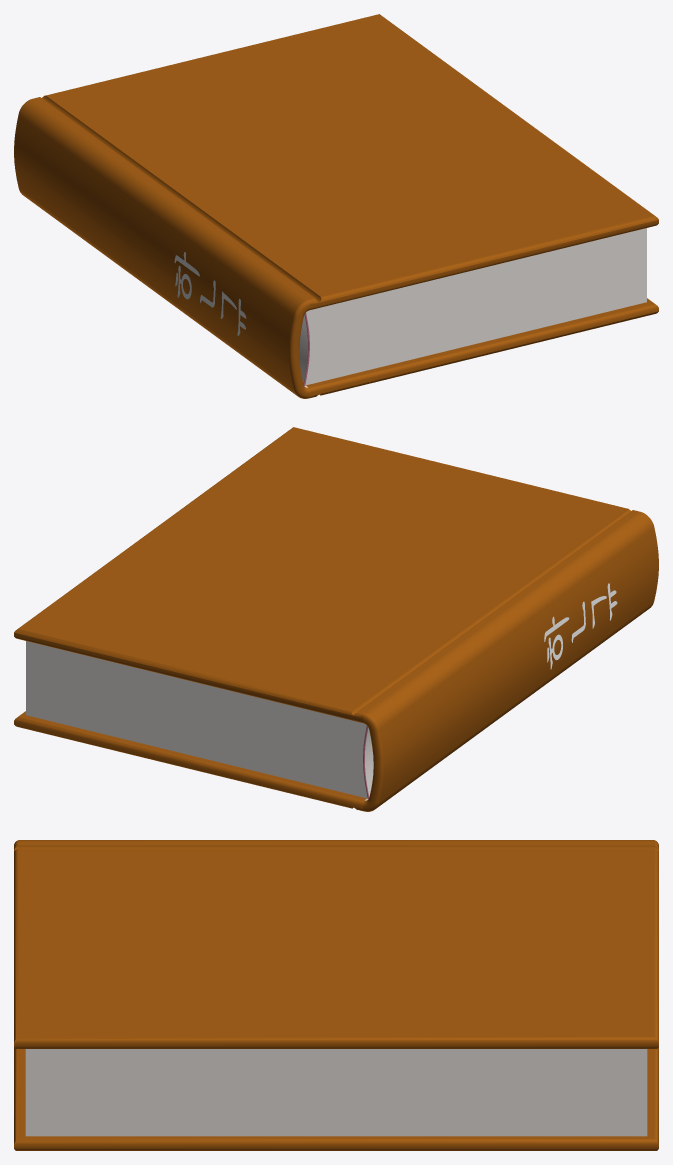
File: book5.glb
3 renders of one model, top to bottom at view 1: azimuth 30°, elevation 25°; view 2: azimuth 150°, elevation 25°; view 3: azimuth 270°, elevation 25°, orthographic. The views are drawn at different scales.
Visible parts, largest first — view 1: Geode, Text; view 2: Geode, Text; view 3: Geode.
Boxes of the visible parts, x1,y1,x2,y2 form: Geode: (14, 14, 658, 398); Text: (174, 252, 246, 335); Geode: (14, 427, 658, 811); Text: (544, 583, 617, 669); Geode: (14, 840, 658, 1150).
Bounding box in the file's own units: 0.5056 × 0.1292 × 0.6604.
Materials: 3 (1 with a texture image).
